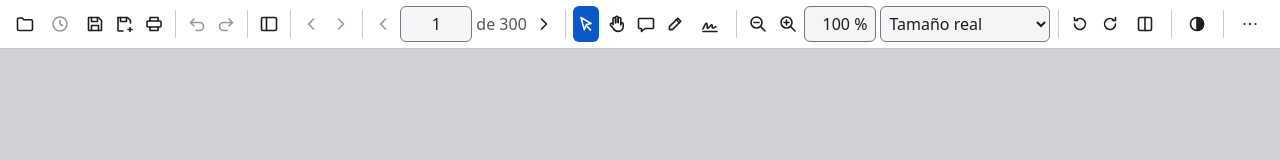
Test: Campo de página › al salir del campo se muestra de nuevo la página actual
This screenshot has width=1280, height=160.
Replace the text in the field named "Número de página" with "77" at (436, 24), box top-left (400, 6), bottom-right (472, 42)
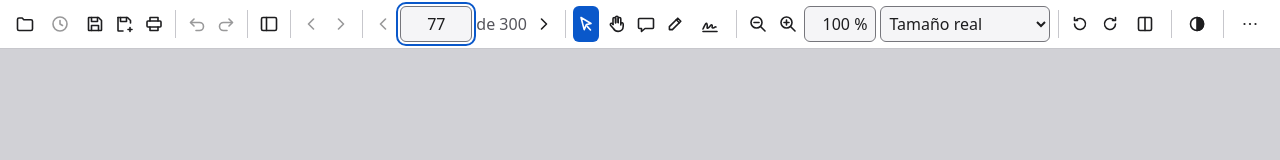
Press Tab
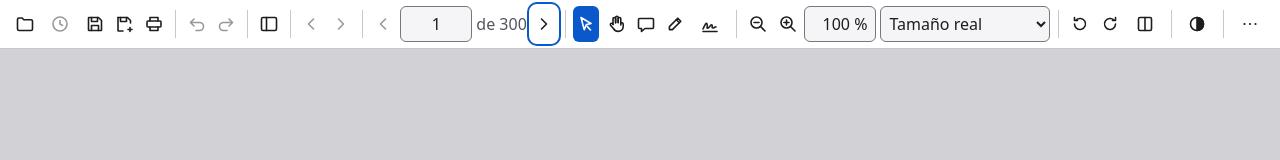
Expected: the field named "Número de página" holds "1", top-left (400, 6), bottom-right (472, 42)
